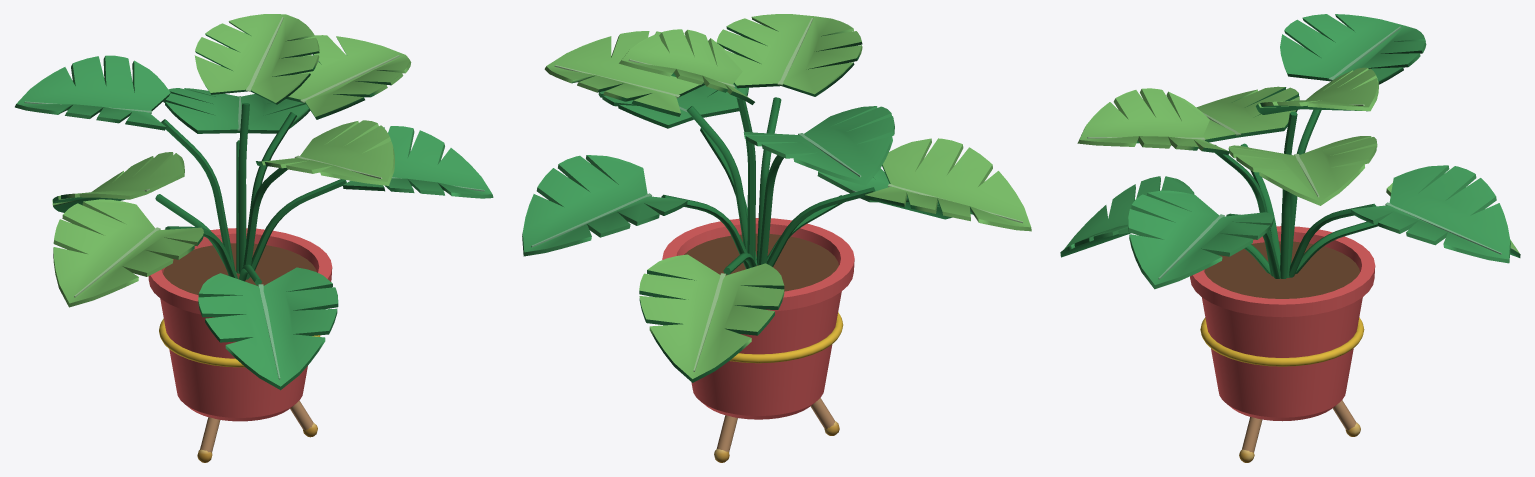
The model's file is plant.glb.
3 views of the same model, side by side, from view 1: azimuth 30°, elevation 25°; view 2: azimuth 150°, elevation 25°; view 3: azimuth 270°, elevation 25° (orthographic). The views are drawn at different scales.
Visible parts, largest first — view 1: Plant; view 2: Plant; view 3: Plant.
Boxes of the visible parts, box(x1,y1,x2,y2) form: Plant: box(15, 14, 493, 462); Plant: box(522, 14, 1031, 462); Plant: box(1060, 14, 1520, 462).
Size of the model in its own units: 1.34 by 1.17 by 1.3.
